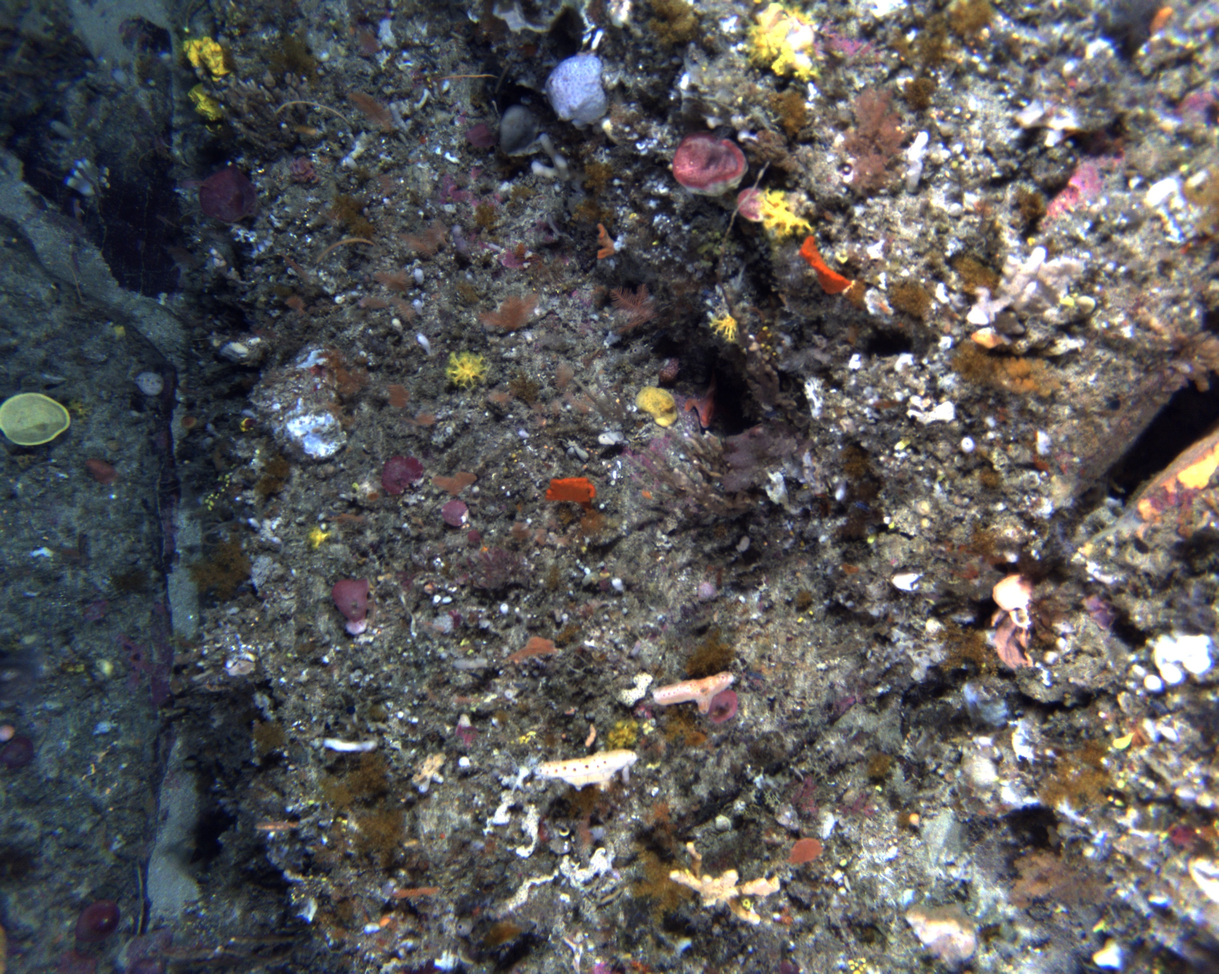Brachionichthyidae: (682, 370, 727, 432)
